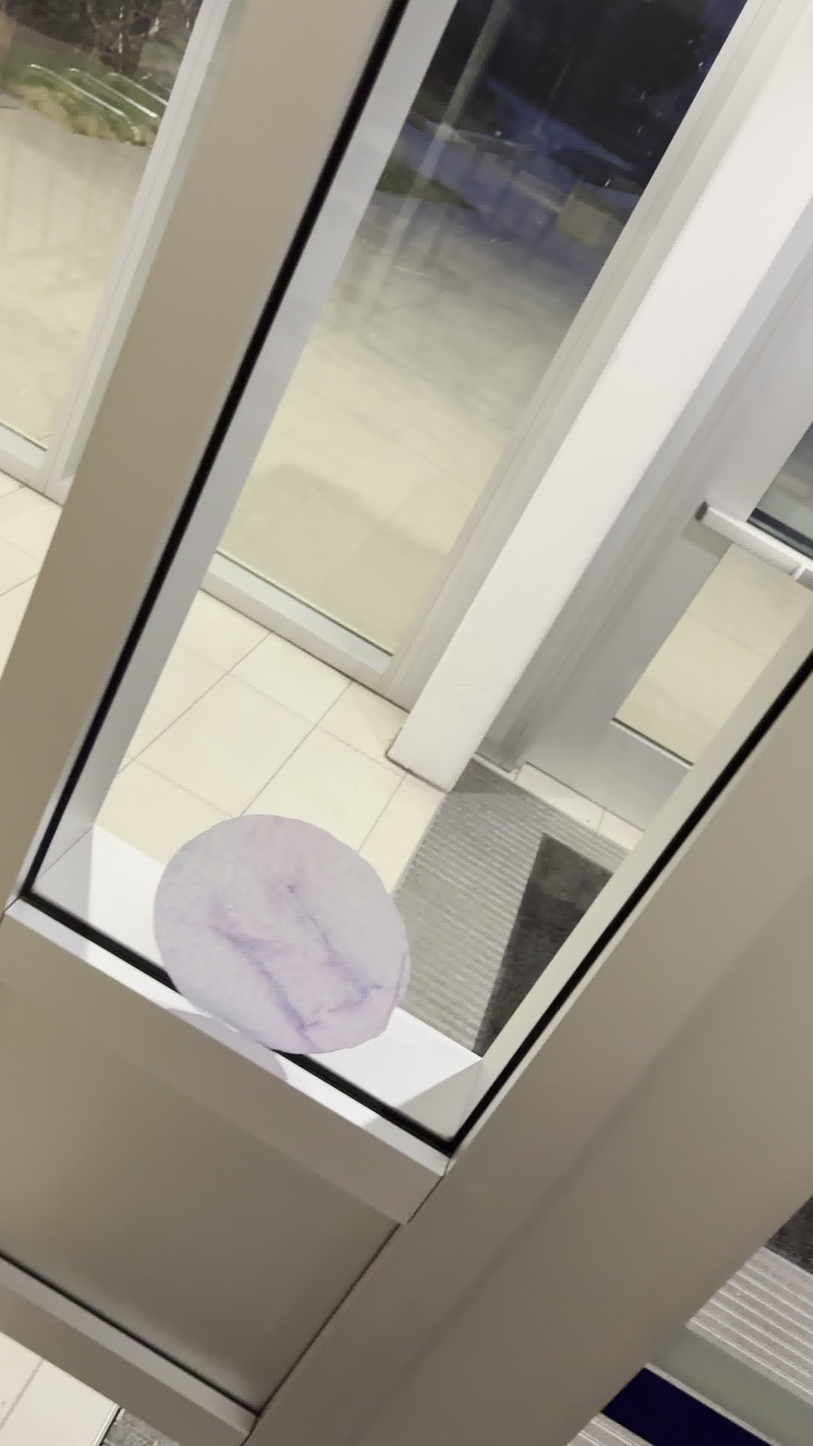Target: (147, 808, 423, 1060)
